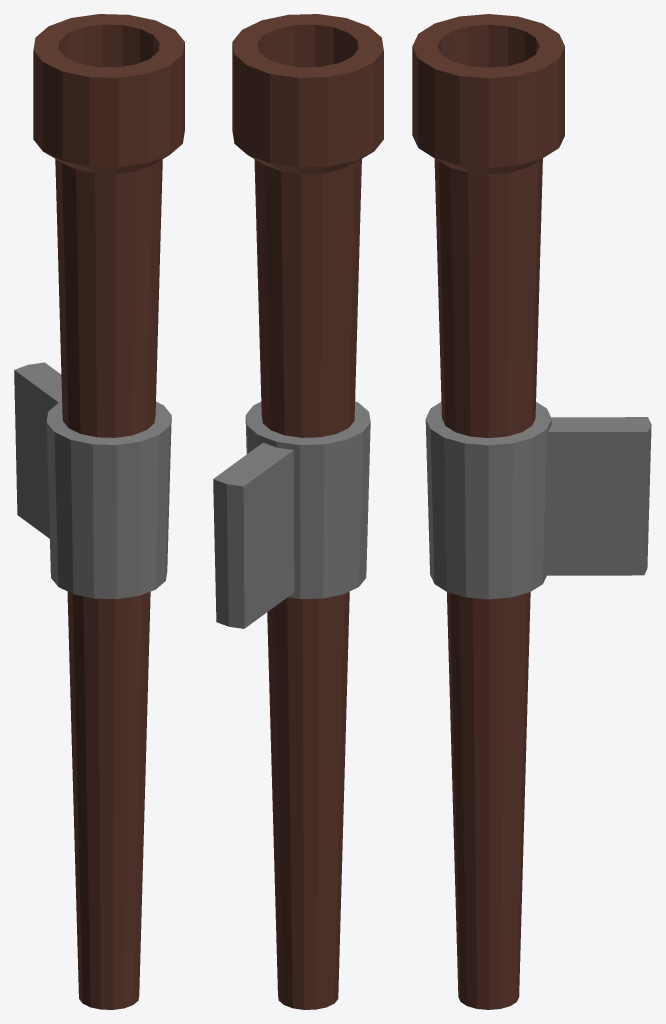
Rendered from Torch.fbx.
The picture shows the model from 3 angles, left to right: view 1: azimuth 30°, elevation 25°; view 2: azimuth 150°, elevation 25°; view 3: azimuth 270°, elevation 25°; orthographic projection.
Visible parts, largest first — view 1: Torch; view 2: Torch; view 3: Torch.
Boxes of the visible parts, box(x1,y1,x2,y2) form: Torch: box(14, 14, 184, 1009); Torch: box(213, 14, 383, 1009); Torch: box(412, 14, 651, 1009).
Size of the model in its own units: 0.1335 by 0.9173 by 0.2091.
